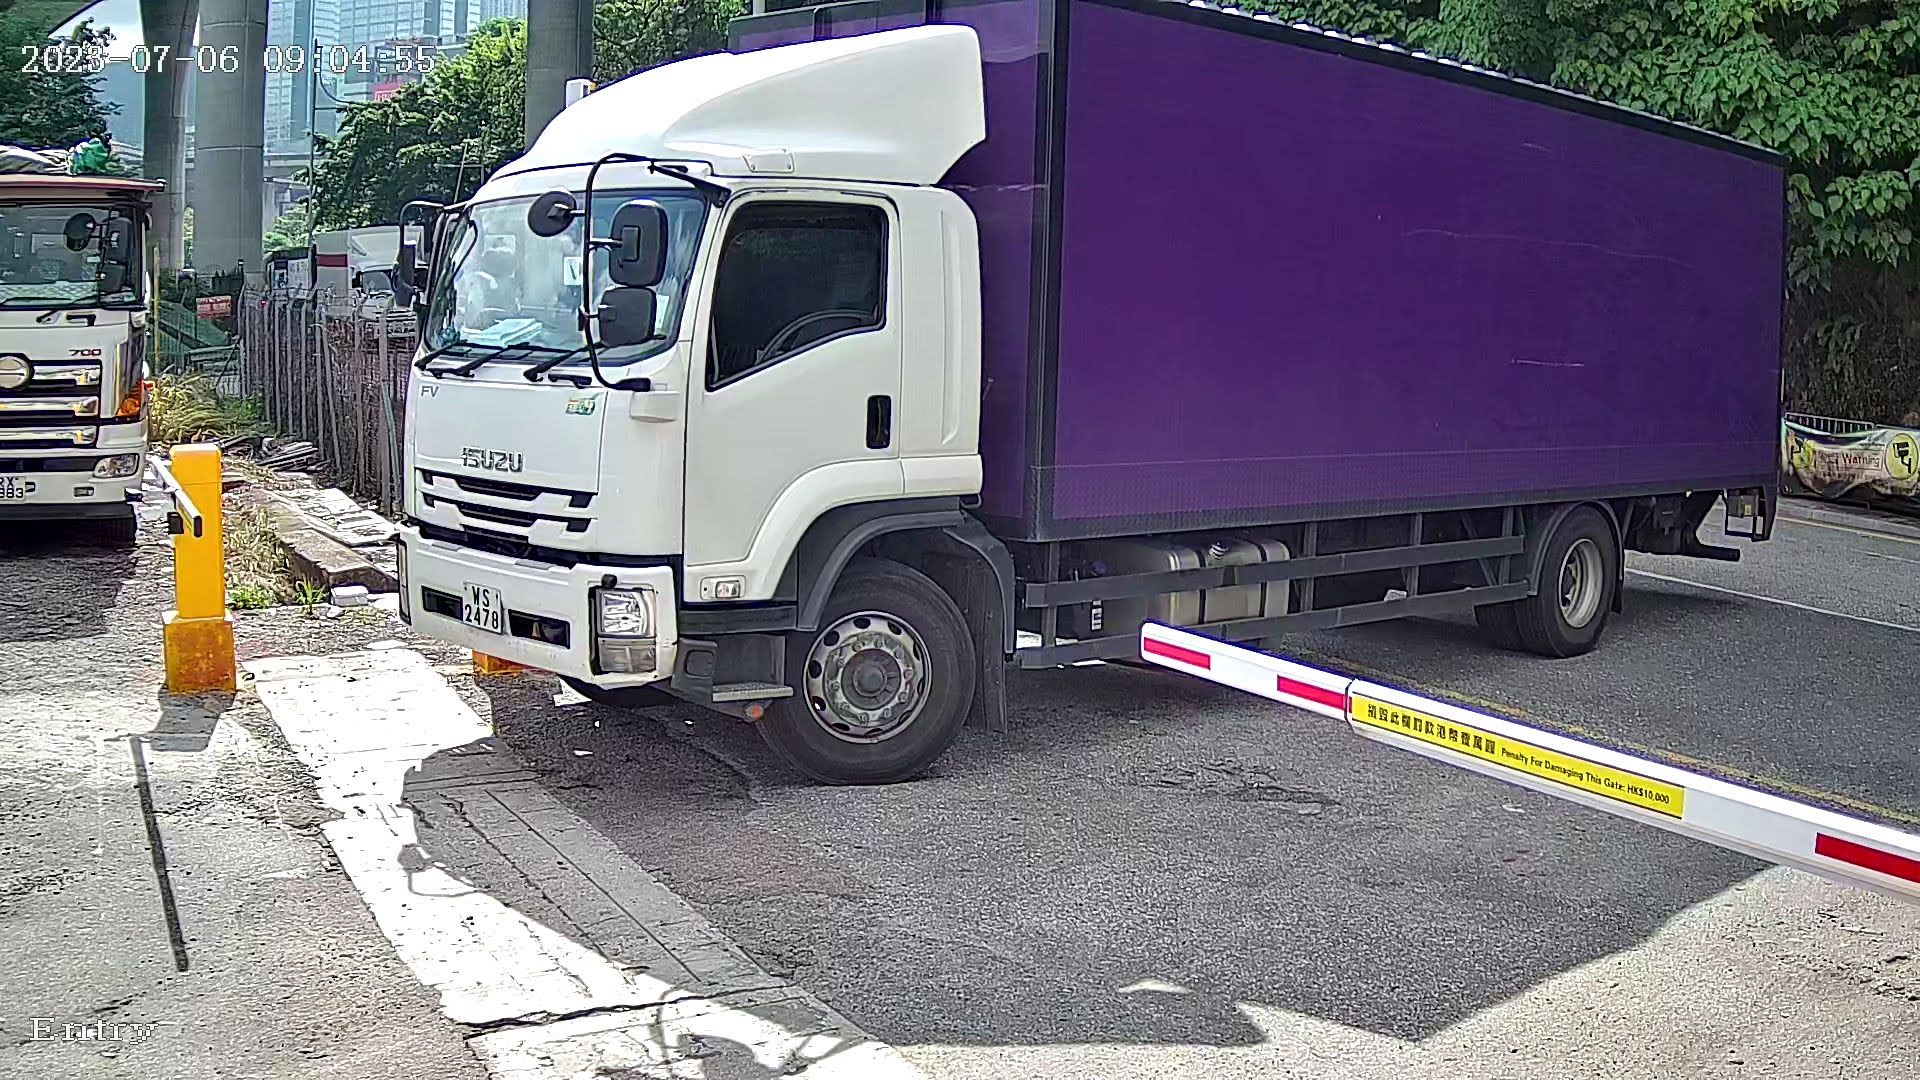truck: (361, 1, 1836, 775)
